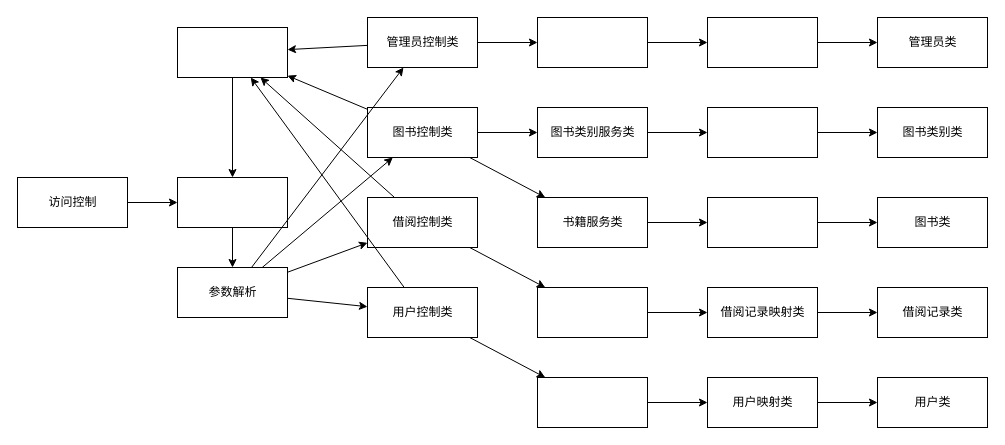
This 1005x445 diagram has some shape labels left out. Each missing label, with the box of its shape:
书籍映射类: (706, 196, 818, 248)
借阅服务类: (536, 286, 648, 338)
分页管理类: (176, 26, 288, 78)
图书类别映射类: (706, 106, 818, 158)
用户服务类: (536, 376, 648, 428)
管理员映射类: (706, 16, 818, 68)
管理员服务类: (536, 16, 648, 68)
请求处理: (176, 176, 288, 228)
